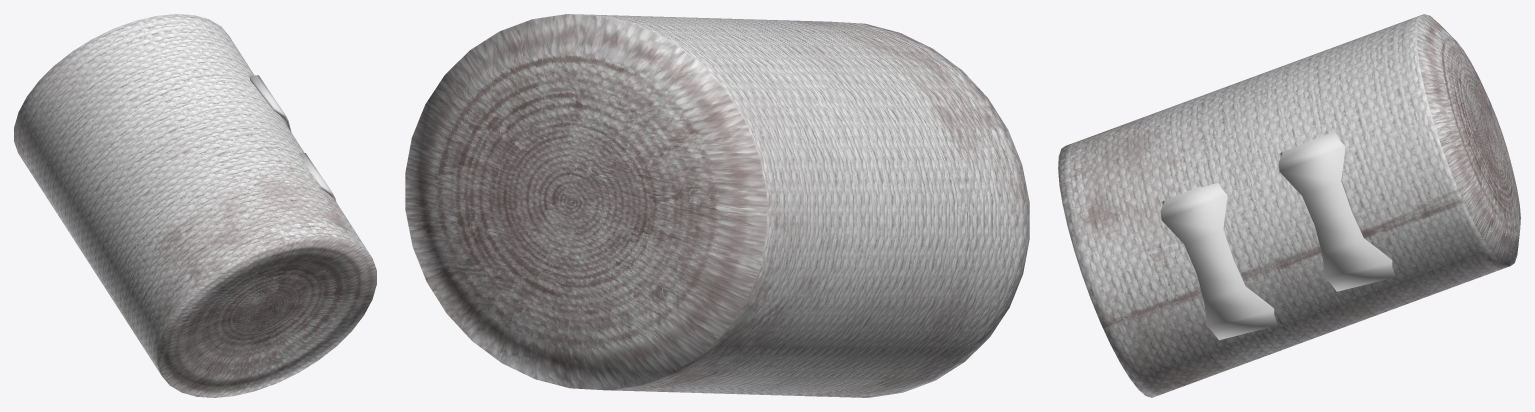
Rendered from Vendaje.fbx.
The picture shows the model from 3 angles, left to right: view 1: azimuth 30°, elevation 25°; view 2: azimuth 150°, elevation 25°; view 3: azimuth 270°, elevation 25°; orthographic projection. The views are drawn at different scales.
Visible parts, largest first — view 1: Cylinder, Plane; view 2: Cylinder; view 3: Cylinder, Plane.
Boxes of the visible parts, x1,y1,x2,y2 form: Cylinder: [14, 14, 376, 397]; Plane: [249, 75, 336, 201]; Cylinder: [405, 14, 1029, 397]; Cylinder: [1058, 14, 1520, 397]; Plane: [1160, 131, 1395, 340].
Bounding box in the file's own units: 144 × 185 × 218.
